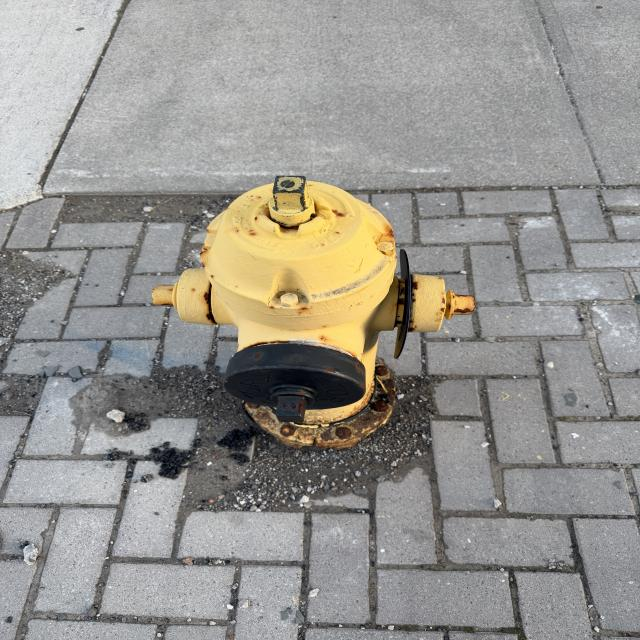Fire hydrant: (150, 175, 477, 450)
